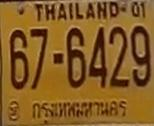2: (109, 26, 130, 86)
4: (88, 26, 106, 88)
6: (8, 27, 29, 90), (66, 27, 85, 87)
7: (30, 28, 49, 91)
9: (131, 25, 150, 86)
BKK: (31, 99, 128, 124)
